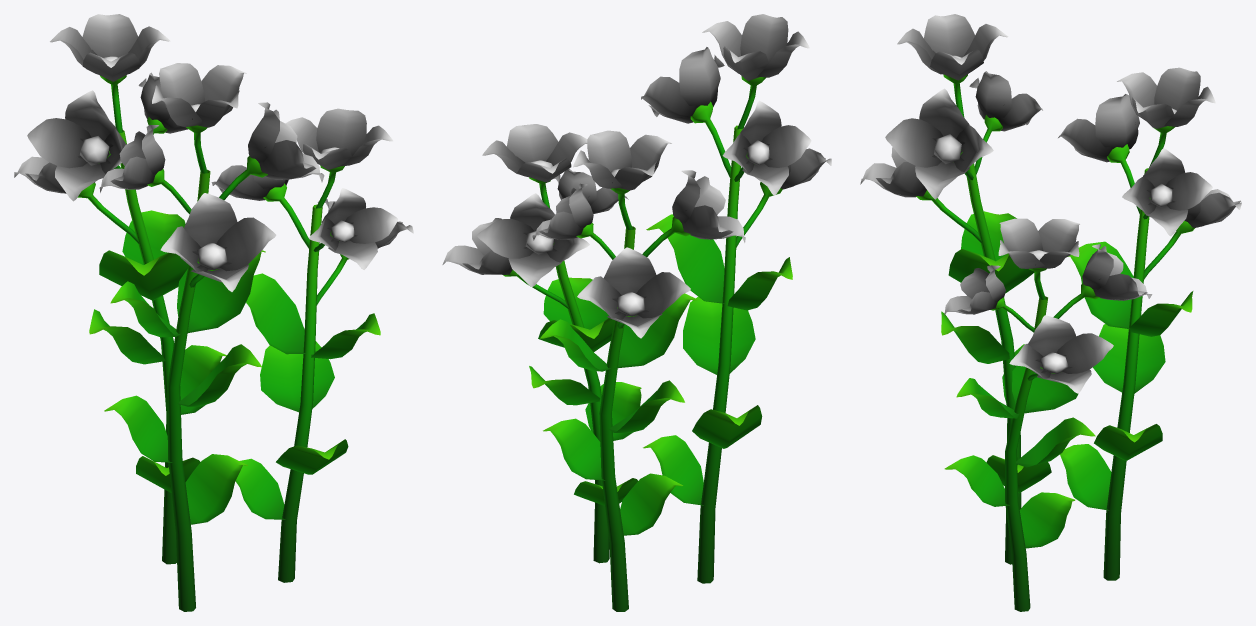
Rendered from flowers204_BalloonFlower_001.fbx.
3 views of the same model, side by side, from view 1: azimuth 30°, elevation 25°; view 2: azimuth 150°, elevation 25°; view 3: azimuth 270°, elevation 25° (orthographic). The views are drawn at different scales.
Parts seen in each view (by area): view 1: 04_BalloonFlower.001; view 2: 04_BalloonFlower.001; view 3: 04_BalloonFlower.001.
Boxes of the visible parts, x1,y1,x2,y2 form: 04_BalloonFlower.001: [14, 14, 413, 611]; 04_BalloonFlower.001: [442, 14, 831, 611]; 04_BalloonFlower.001: [860, 14, 1241, 611].
Size of the model in its own units: 72.91 by 117 by 78.05.
